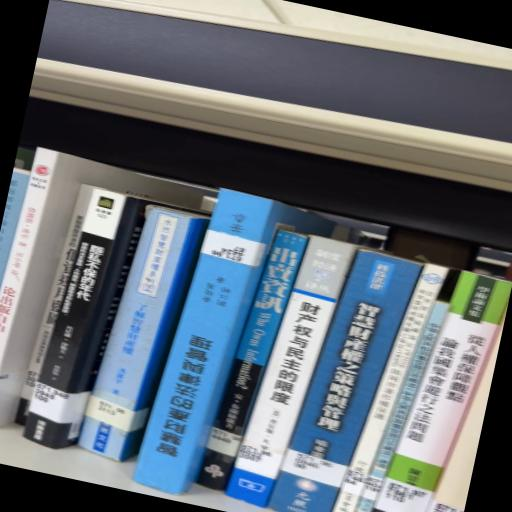reverse: (134, 189, 335, 495)
